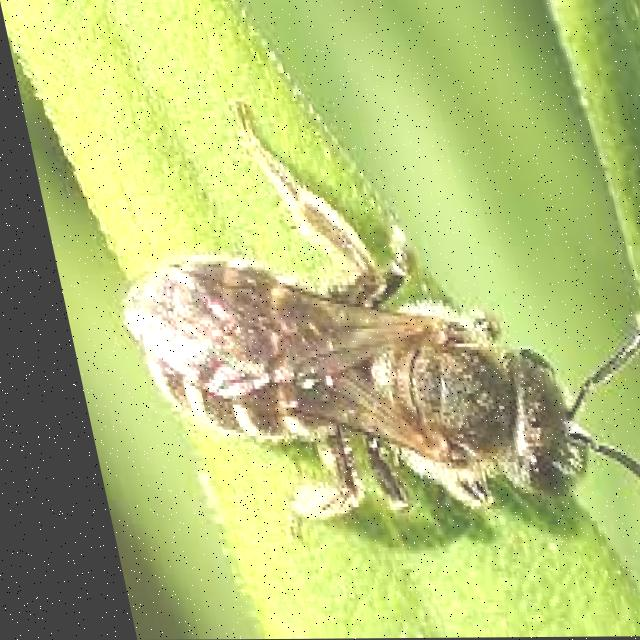Seladonia: (96, 200, 640, 534)
